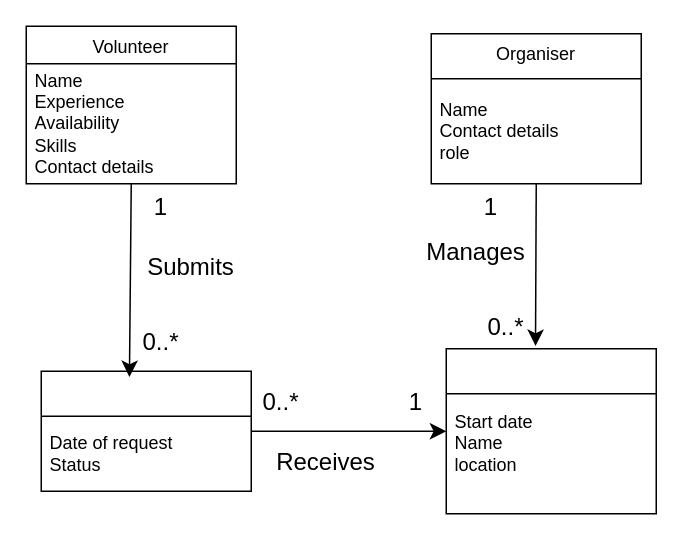
This 683x540 diagram has some shape labels left out. The shapes that lost their labels are listed below. From the top down, each one's box as (x1, y1, x2, y2) in pixels, then its label:
(40, 370, 251, 491): Join Request
(445, 347, 656, 514): Event or activity
